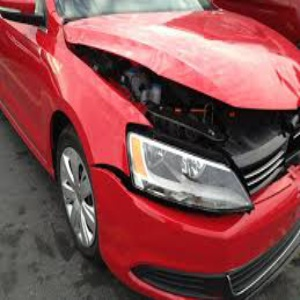bonnet: (108, 25, 300, 113)
